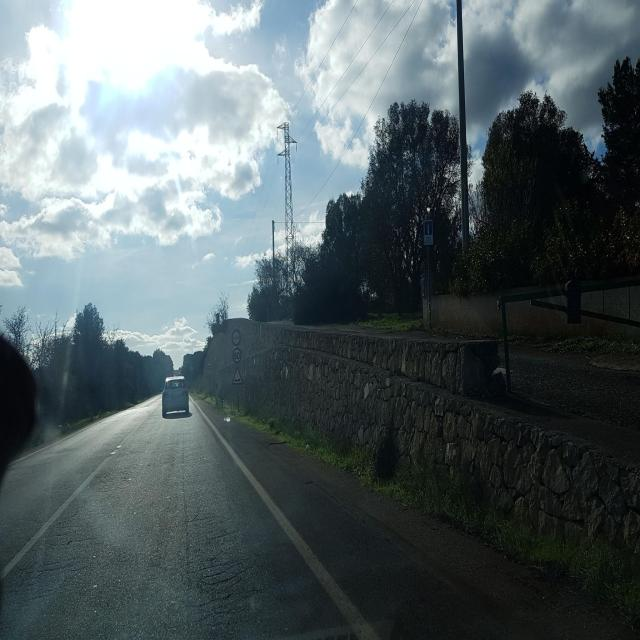car: (161, 374, 191, 417)
